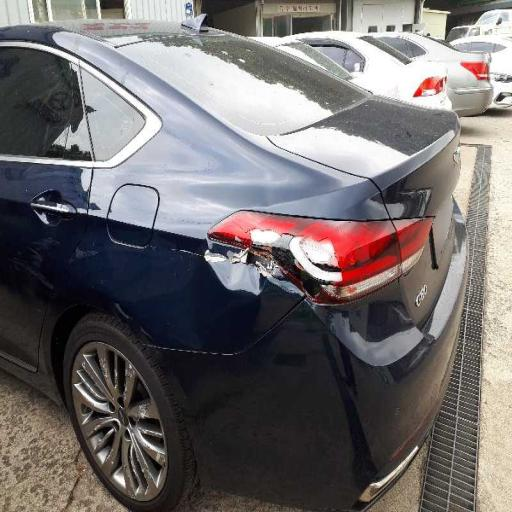dent: (176, 191, 284, 350)
